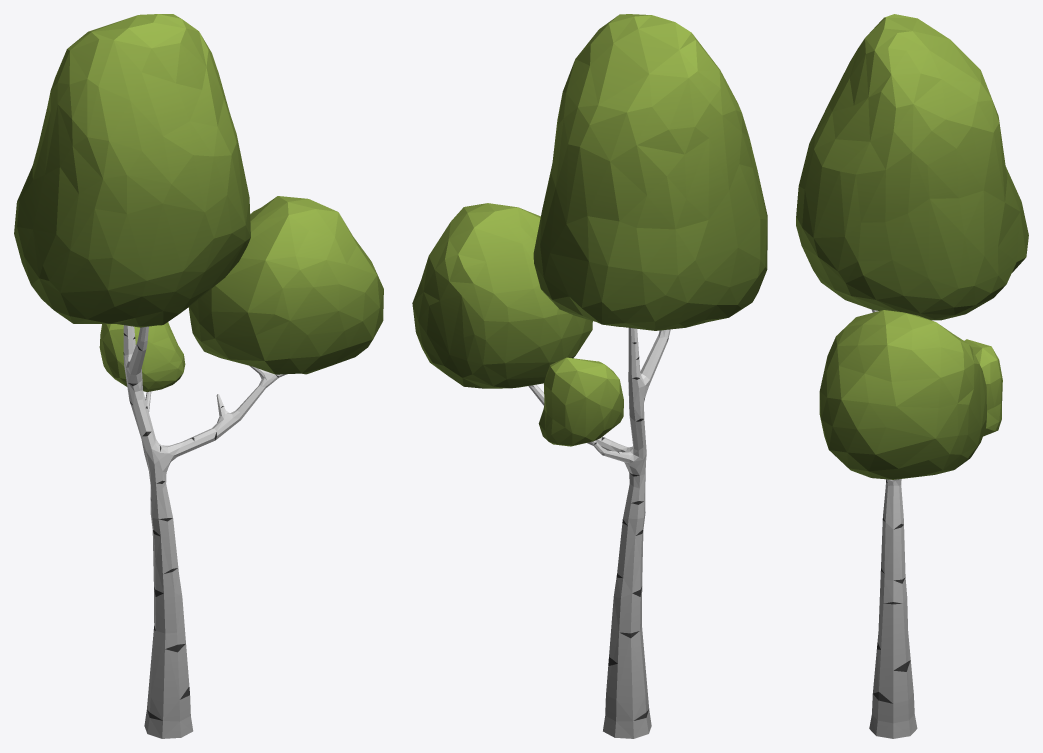
The model's file is Summer_Tree_15.glb.
The picture shows the model from 3 angles, left to right: view 1: azimuth 30°, elevation 25°; view 2: azimuth 150°, elevation 25°; view 3: azimuth 270°, elevation 25°; orthographic projection. The views are drawn at different scales.
Visible parts, largest first — view 1: Summer_Tree_15_LOD0; view 2: Summer_Tree_15_LOD0; view 3: Summer_Tree_15_LOD0.
Part boxes in pixels (x1,y1,x2,y2): Summer_Tree_15_LOD0: [14, 14, 383, 738]; Summer_Tree_15_LOD0: [412, 14, 767, 738]; Summer_Tree_15_LOD0: [796, 14, 1028, 738].
Size of what is drawn, in the model's own units: 3.9 by 7.98 by 2.44.
Materials: 1 (1 with a texture image).
